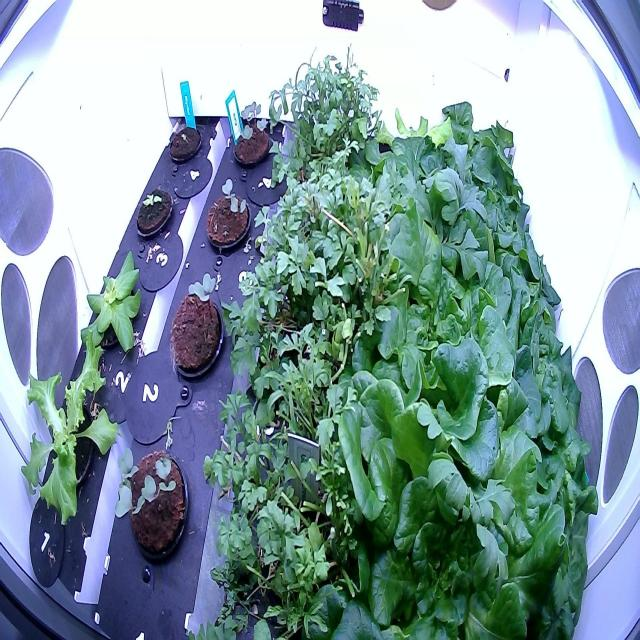germination: (113, 439, 191, 571), (164, 268, 228, 382), (200, 176, 253, 256), (226, 94, 272, 170), (131, 178, 177, 242)
pod: (165, 110, 205, 169)
young: (78, 248, 150, 371)
